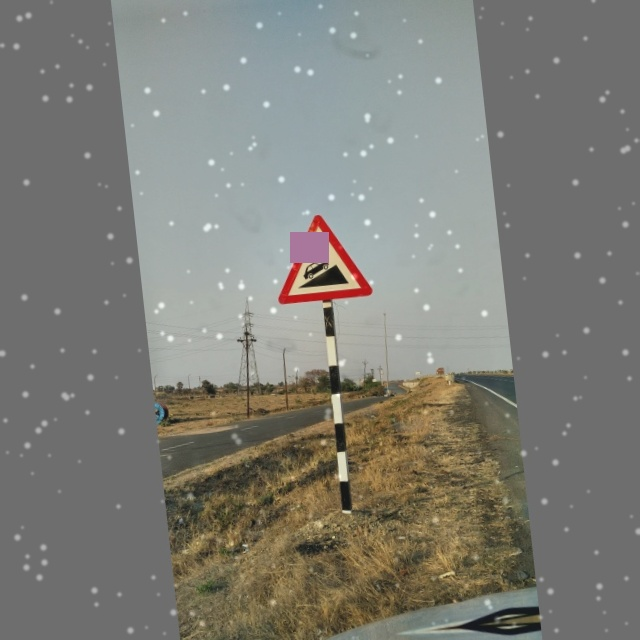Steep_Ascent: (261, 207, 379, 310)
